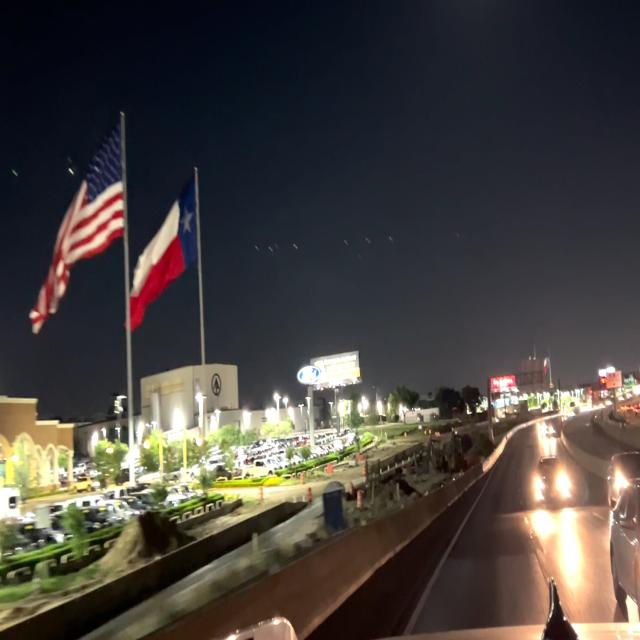back-of-sign: (513, 353, 547, 401)
